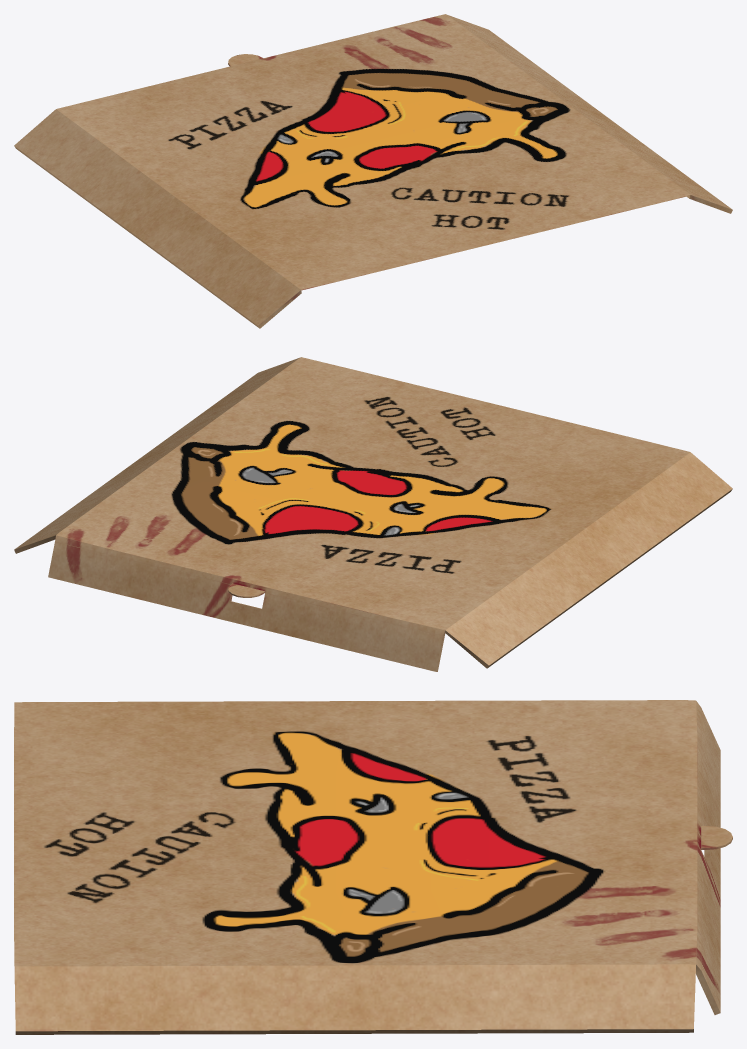
The model's file is CajaPizza.dae.
3 renders of one model, top to bottom at view 1: azimuth 30°, elevation 25°; view 2: azimuth 150°, elevation 25°; view 3: azimuth 270°, elevation 25°, orthographic. The views are drawn at different scales.
Parts seen in each view (by area): view 1: Plane.001; view 2: Plane.001; view 3: Plane.001.
Part boxes in pixels (<box>): Plane.001: <box>14,14,732,328</box>; Plane.001: <box>14,357,732,671</box>; Plane.001: <box>14,700,732,1034</box>.
Bounding box in the file's own units: 2.28 × 2.15 × 0.1714.
